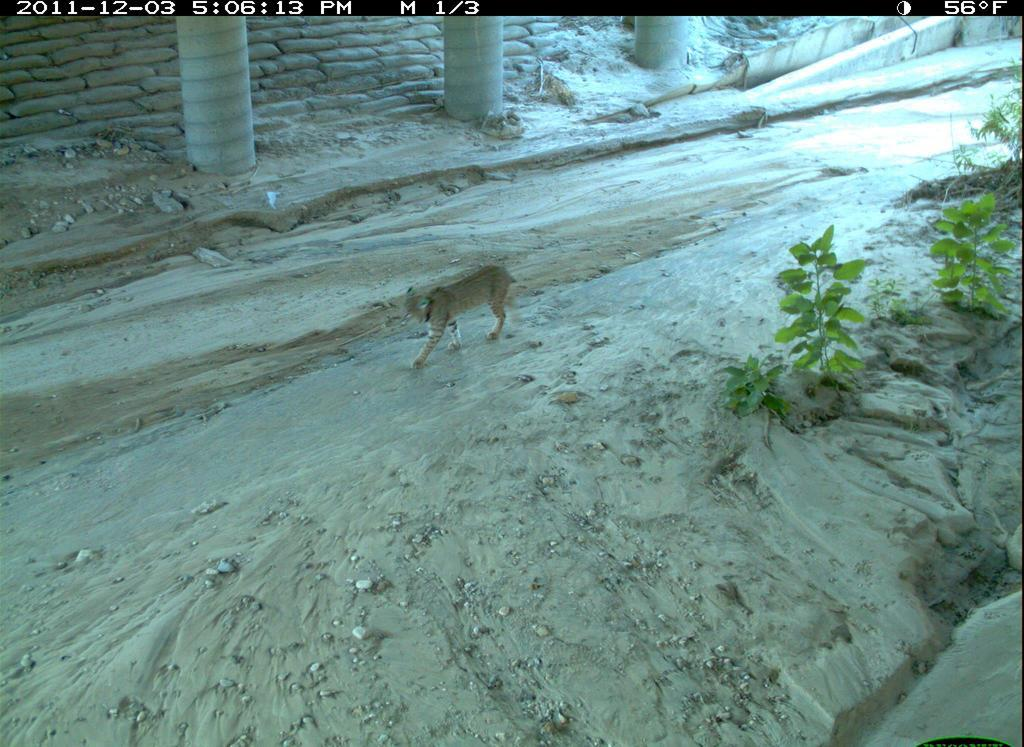bobcat: (390, 259, 519, 381)
